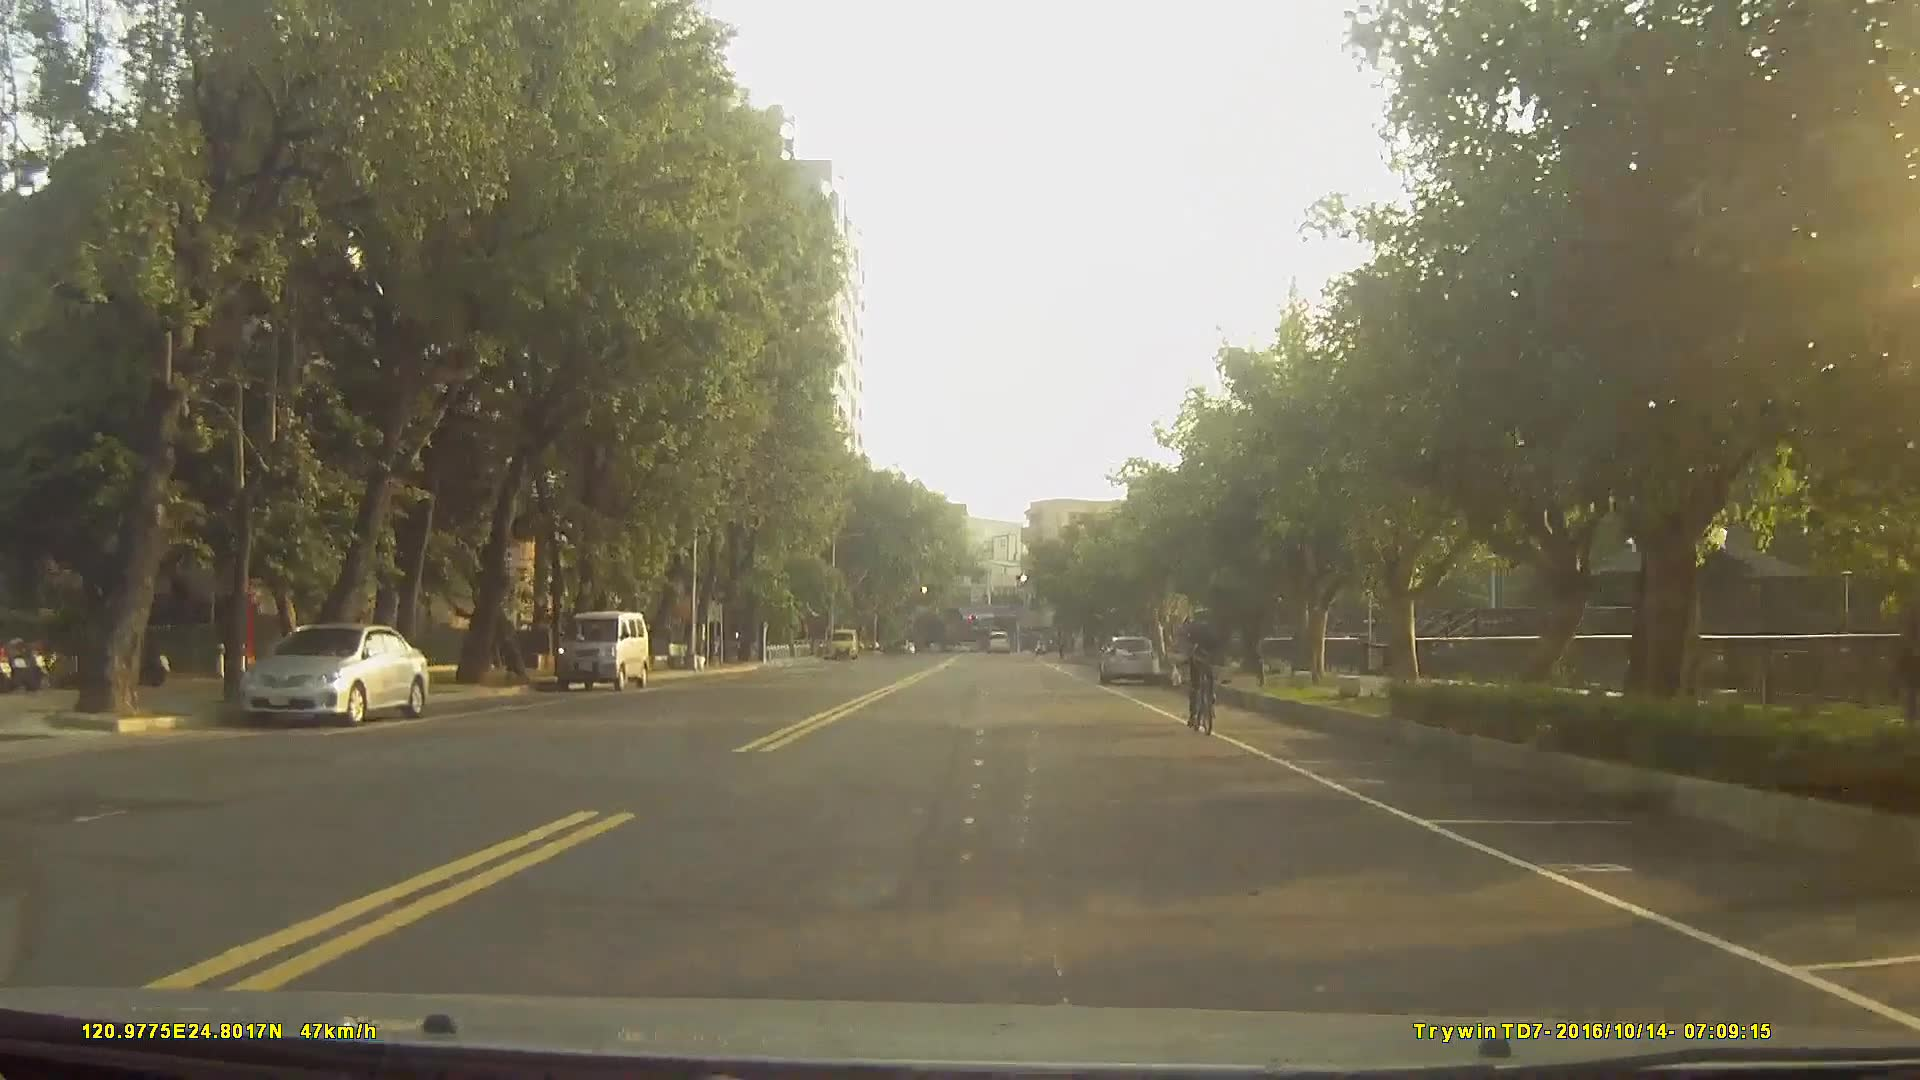rider: (1185, 605, 1225, 733)
vehicle: (236, 622, 432, 731), (555, 609, 650, 692), (1098, 638, 1164, 692), (984, 627, 1010, 655)
